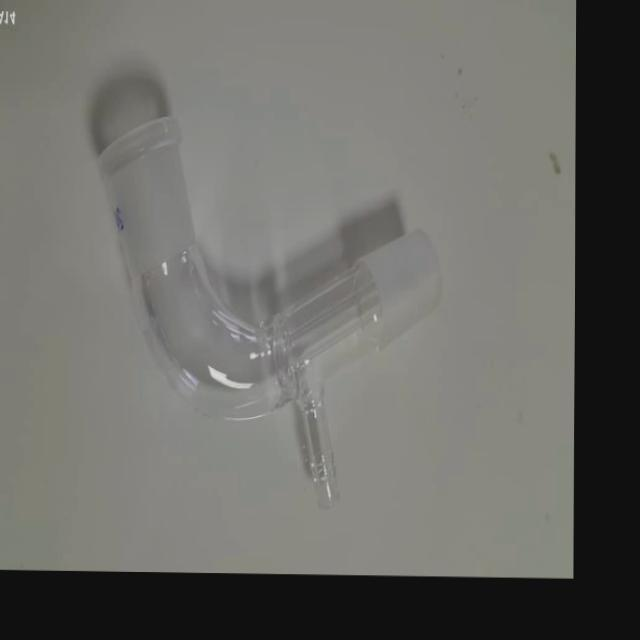Angled Extension for Vacuum Distillation: (75, 106, 450, 511)
